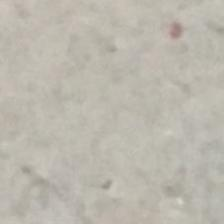Non_Crack: (27, 39, 224, 212)
